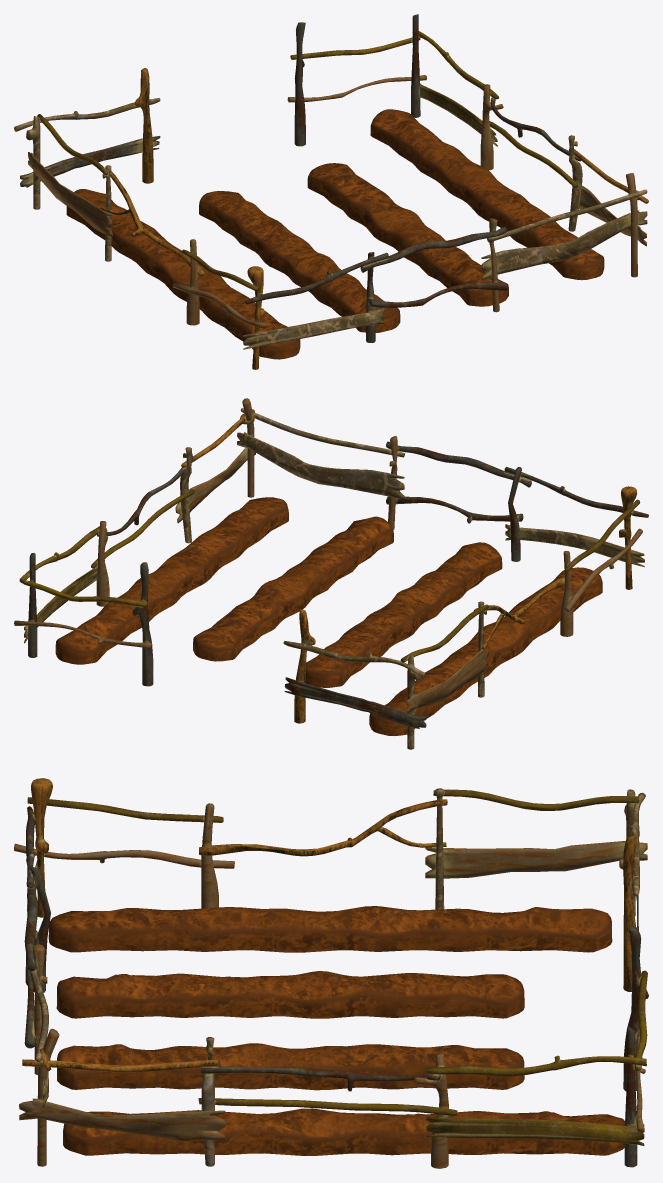
Rendered from VegetableGarden1L.fbx.
3 renders of one model, top to bottom at view 1: azimuth 30°, elevation 25°; view 2: azimuth 150°, elevation 25°; view 3: azimuth 270°, elevation 25°, orthographic. The views are drawn at different scales.
Visible parts, largest first — view 1: VegetableGarden1L; view 2: VegetableGarden1L; view 3: VegetableGarden1L.
Boxes of the visible parts, x1,y1,x2,y2 form: VegetableGarden1L: (14,14,648,369); VegetableGarden1L: (14,398,648,749); VegetableGarden1L: (14,778,648,1168).
Bounding box in the file's own units: 325 × 91.9 × 323.
